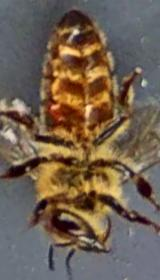varroa_mite: (28, 90, 66, 134)
